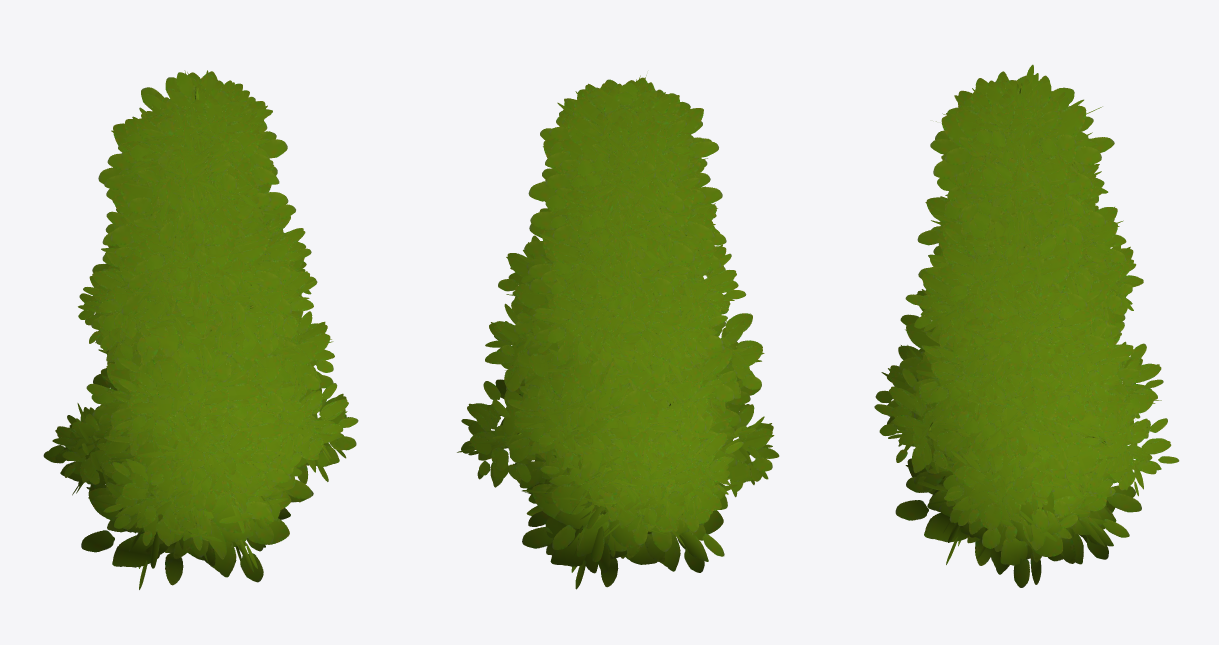
The model's file is bush-4.glb.
3 views of the same model, side by side, from view 1: azimuth 30°, elevation 25°; view 2: azimuth 150°, elevation 25°; view 3: azimuth 270°, elevation 25° (orthographic).
Parts seen in each view (by area): view 1: Bush_Long_2; view 2: Bush_Long_2; view 3: Bush_Long_2.
Boxes of the visible parts, <box> form: Bush_Long_2: <box>43,70,358,589</box>; Bush_Long_2: <box>457,75,779,589</box>; Bush_Long_2: <box>874,64,1179,587</box>.
Bounding box in the file's own units: 0.407 × 0.7 × 0.3955.
Materials: 1 (1 with a texture image).
